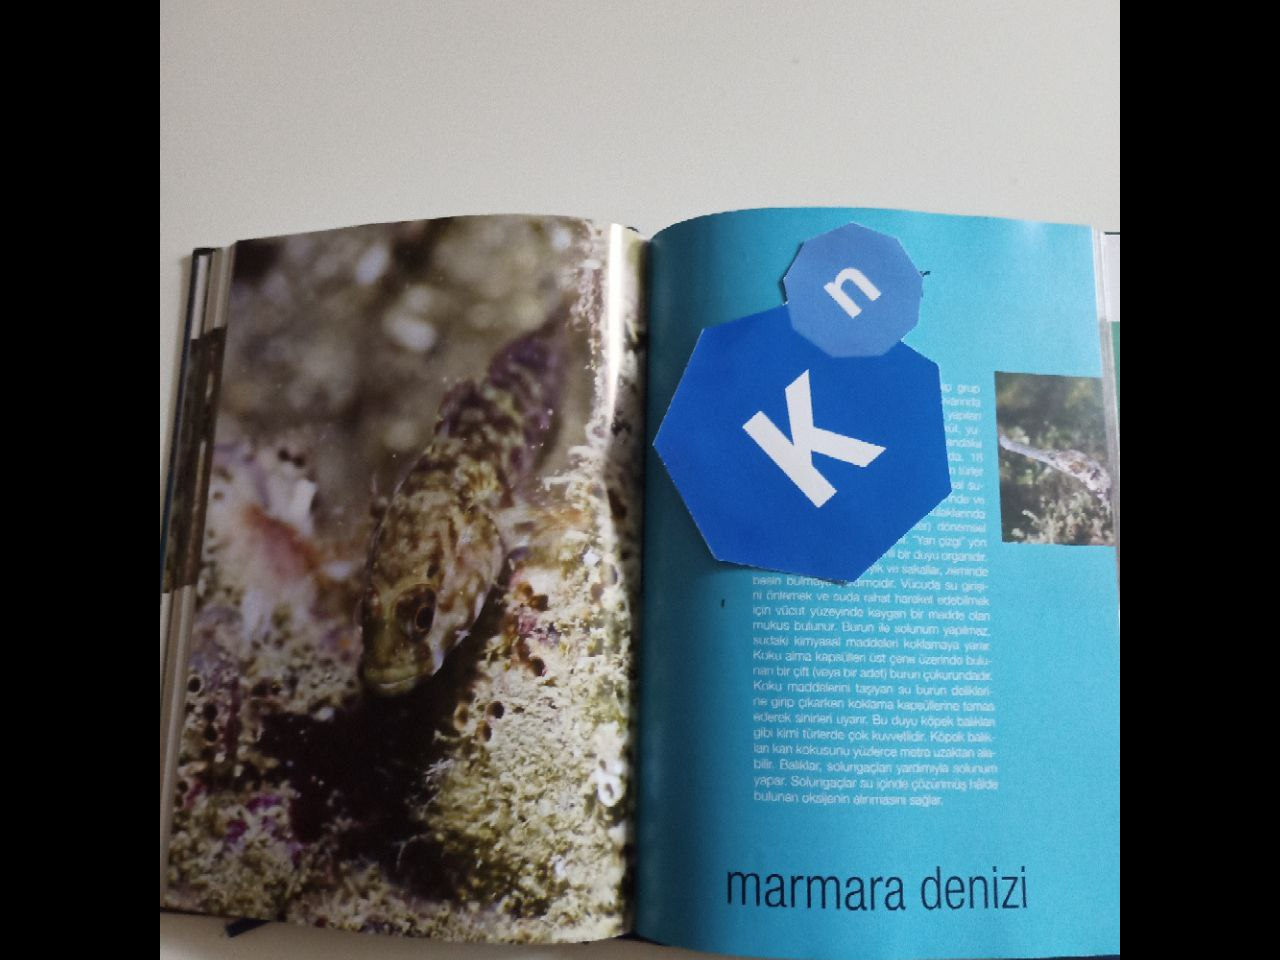knative: (653, 220, 956, 586)
